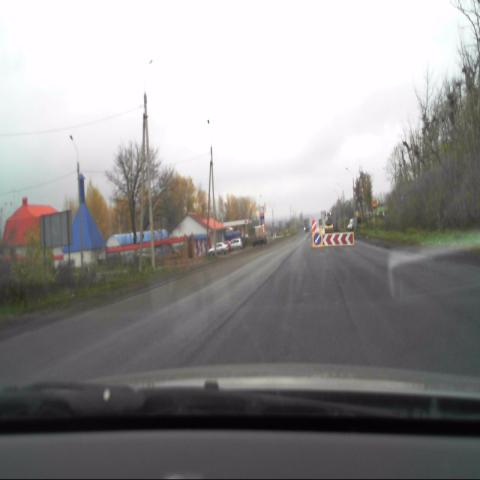4_2_2: (312, 233, 322, 246)
